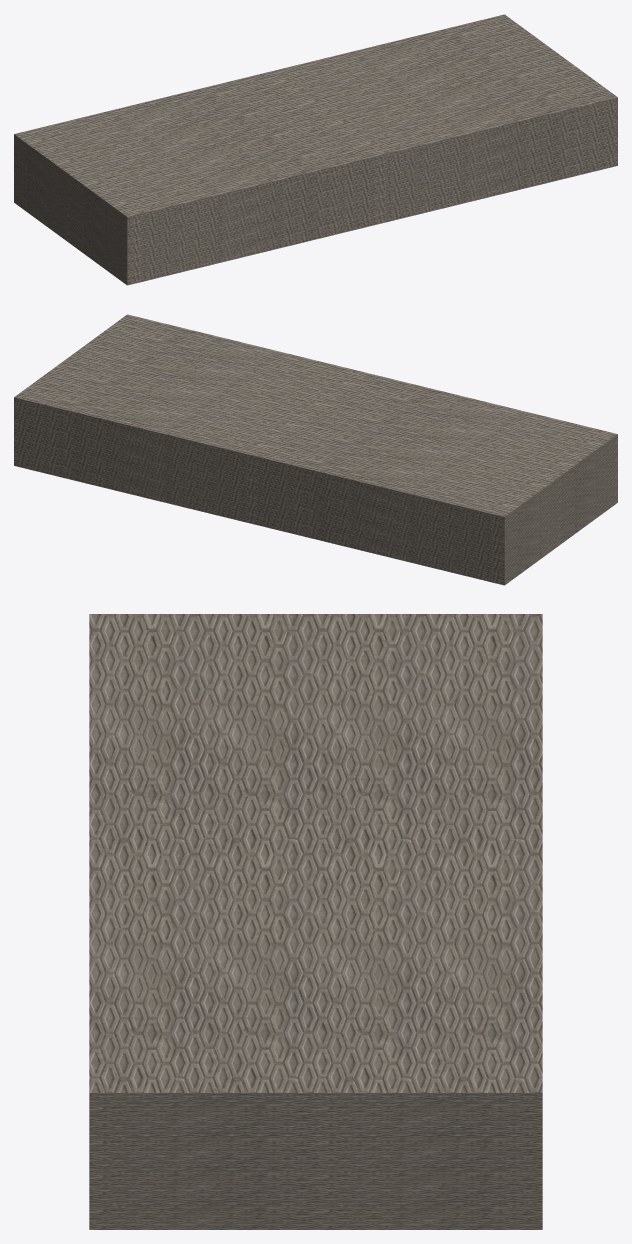
Rendered from suelo.obj.
3 renders of one model, top to bottom at view 1: azimuth 30°, elevation 25°; view 2: azimuth 150°, elevation 25°; view 3: azimuth 270°, elevation 25°, orthographic. The views are drawn at different scales.
Visible parts, largest first — view 1: Cube; view 2: Cube; view 3: Cube.
Boxes of the visible parts, left/top/right/bottom form: Cube: left=14, top=14, right=617, bottom=285; Cube: left=14, top=314, right=617, bottom=585; Cube: left=89, top=614, right=542, bottom=1229.
Size of the model in its own units: 150 by 20 by 60.
